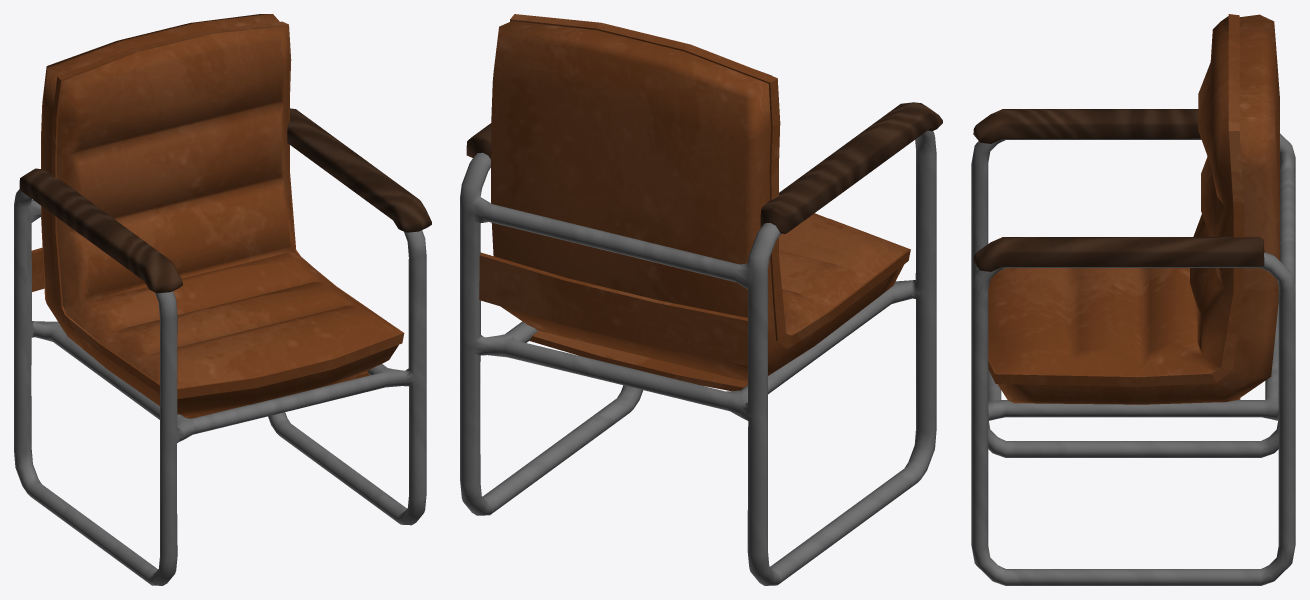
File: arm_chair.glb
The picture shows the model from 3 angles, left to right: view 1: azimuth 30°, elevation 25°; view 2: azimuth 150°, elevation 25°; view 3: azimuth 270°, elevation 25°; orthographic projection. The views are drawn at different scales.
Parts seen in each view (by area): view 1: Arm_Chair; view 2: Arm_Chair; view 3: Arm_Chair.
Boxes of the visible parts, left/top/right/bottom form: Arm_Chair: left=14, top=14, right=431, bottom=585; Arm_Chair: left=460, top=14, right=942, bottom=585; Arm_Chair: left=971, top=14, right=1295, bottom=585.
Bounding box in the file's own units: 0.8369 × 1.26 × 0.8039.
3 materials, 3 textured.
